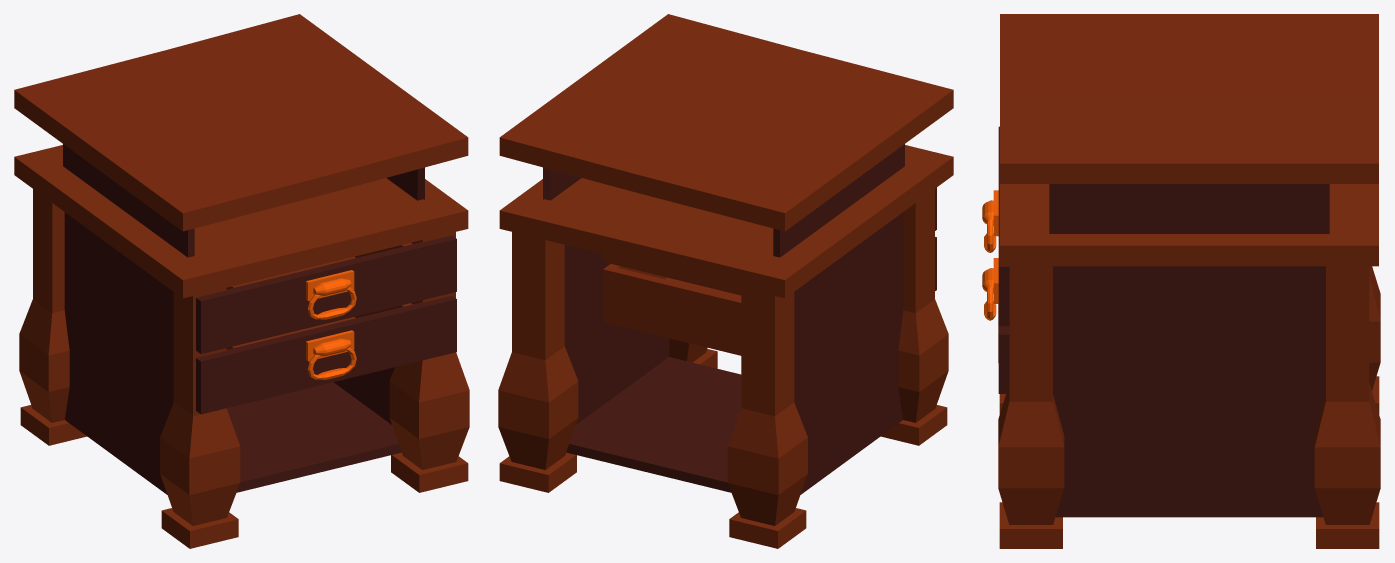
The model's file is Night stand_1.fbx.
The picture shows the model from 3 angles, left to right: view 1: azimuth 30°, elevation 25°; view 2: azimuth 150°, elevation 25°; view 3: azimuth 270°, elevation 25°; orthographic projection. The views are drawn at different scales.
Visible parts, largest first — view 1: Wealth_Cabinet #1, Drawer_2, Drawer_1; view 2: Wealth_Cabinet #1, Drawer_2, Drawer_1; view 3: Wealth_Cabinet #1, Drawer_1, Drawer_2.
Part boxes in pixels (x1,y1,x2,y2): Wealth_Cabinet #1: (14,14,469,548); Drawer_2: (196,295,456,414); Drawer_1: (196,235,456,353); Wealth_Cabinet #1: (498,14,953,548); Drawer_2: (603,237,936,355); Drawer_1: (603,187,936,295); Wealth_Cabinet #1: (998,14,1380,548); Drawer_1: (982,126,1009,326); Drawer_2: (982,258,1009,393).
Bounding box in the file's own units: 81.9 × 93.93 × 87.91.
